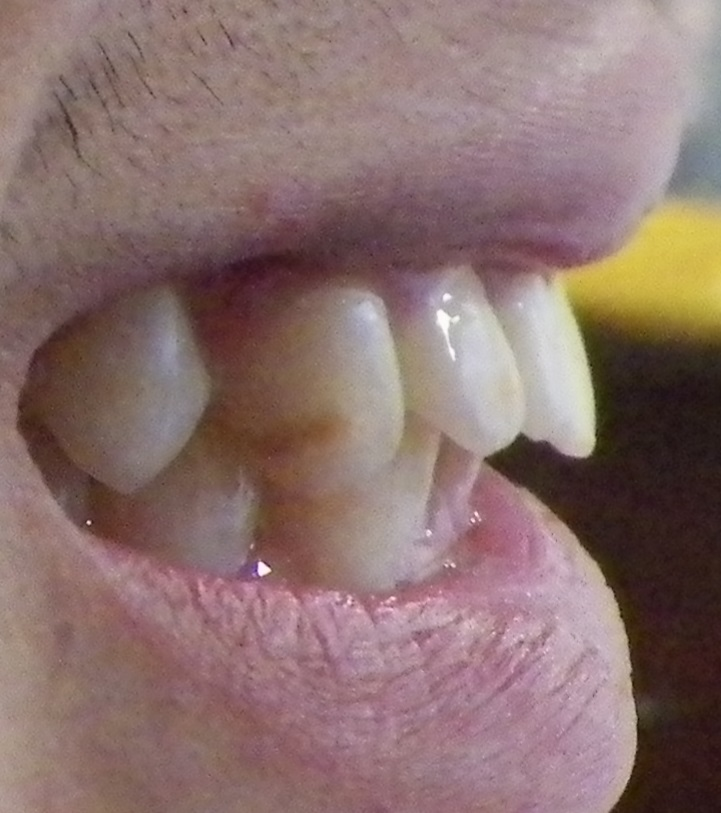boca: (29, 278, 604, 590)
